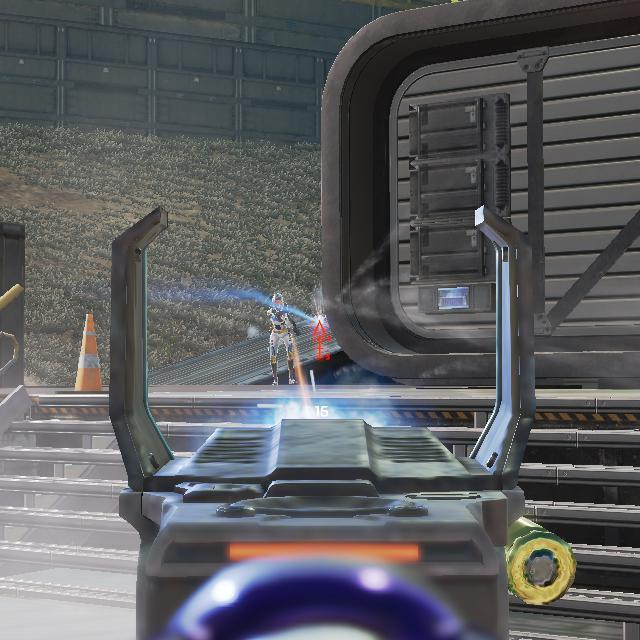avatar: (266, 291, 299, 387)
